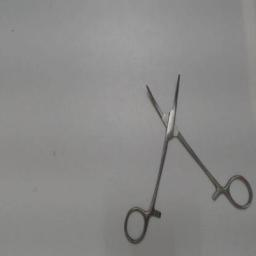Crile Artery Forceps: (122, 70, 254, 248)
